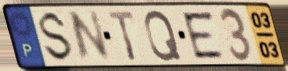3: (219, 5, 253, 64)
E: (180, 10, 227, 61)
N: (67, 9, 113, 64)
Q: (143, 9, 184, 63)
S: (38, 10, 76, 65)
T: (106, 9, 139, 62)
